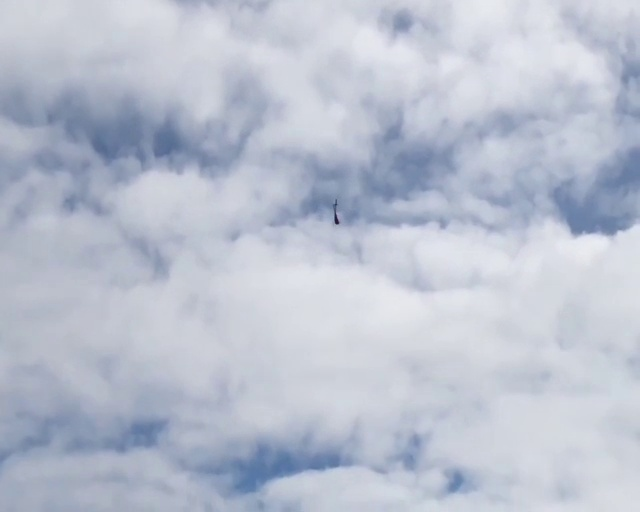HELICOPTER: (332, 197, 342, 226)
